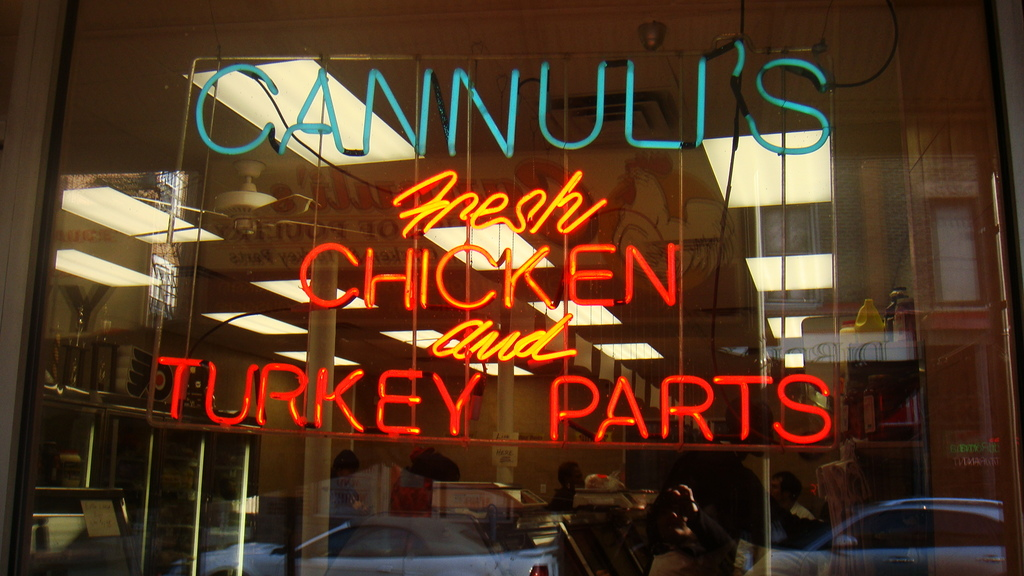Car: (188, 518, 558, 575), (757, 492, 1003, 575)
